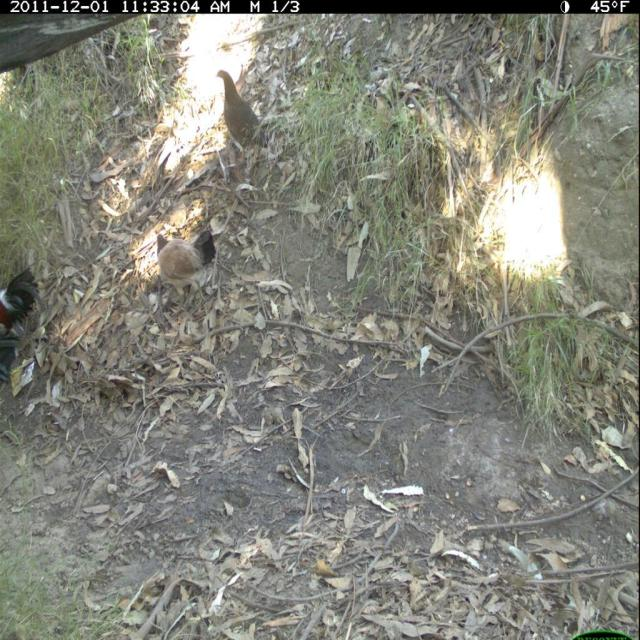bird: (206, 63, 286, 189), (141, 213, 233, 302)
